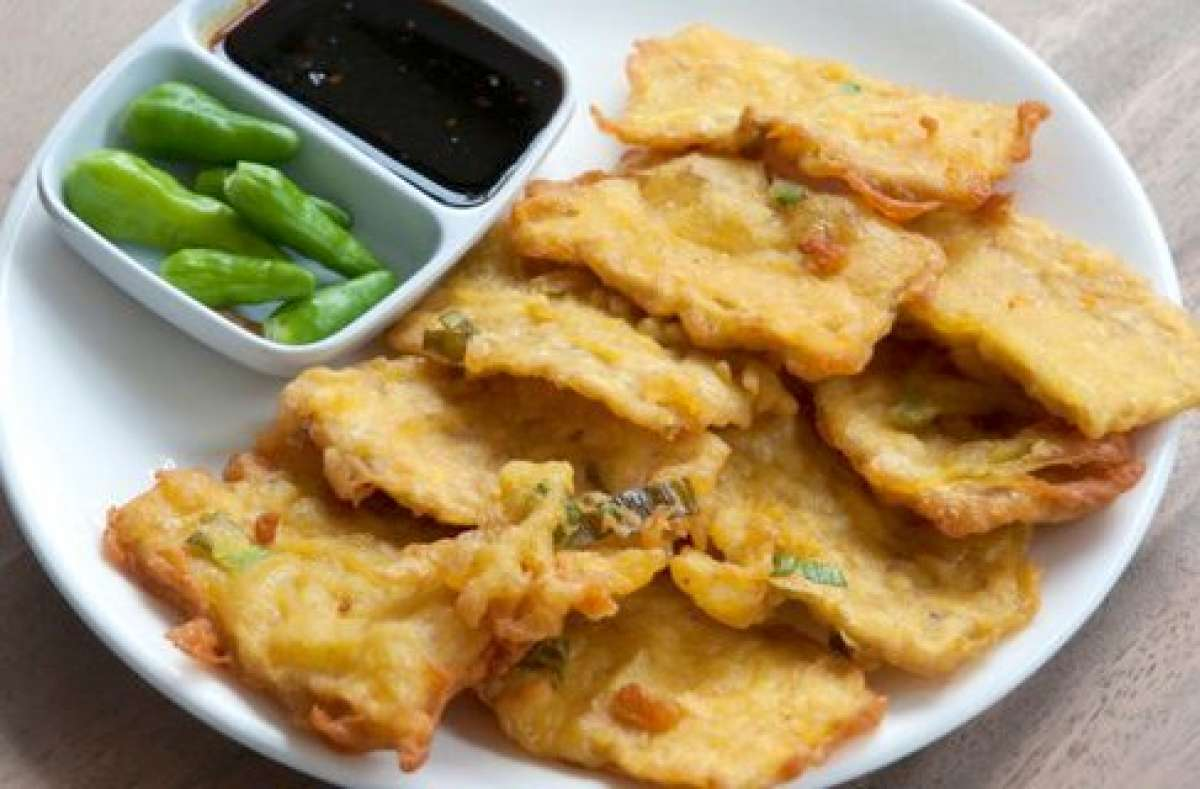Tempe: (619, 38, 1020, 182), (537, 178, 931, 313), (940, 222, 1171, 412)
